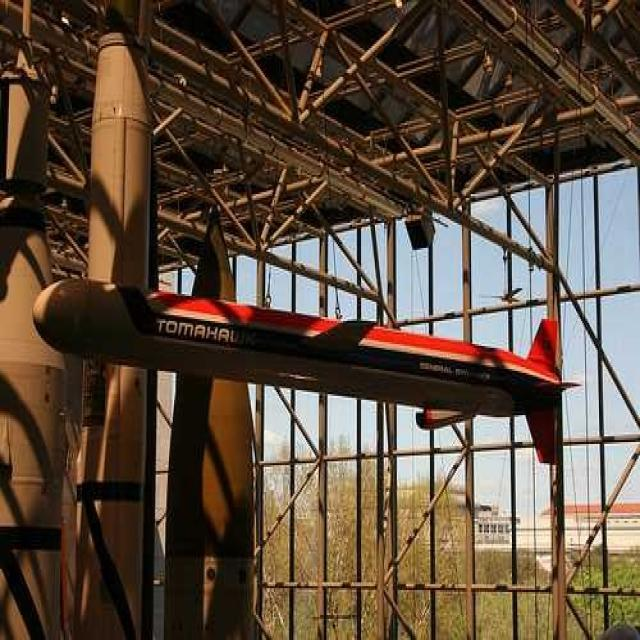missile: (32, 262, 564, 467)
